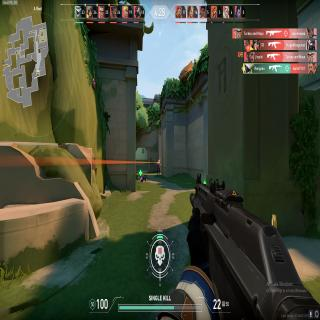ENEMY-BODY: (158, 158, 160, 176)
ENEMY-HEAD: (158, 160, 159, 162)
